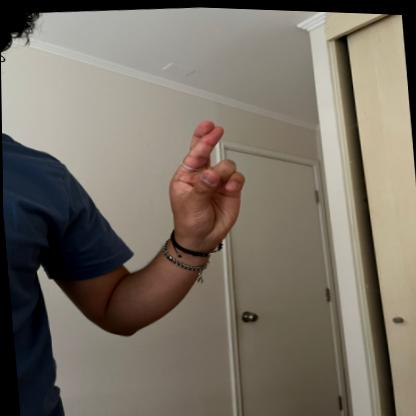R: (158, 113, 253, 248)
